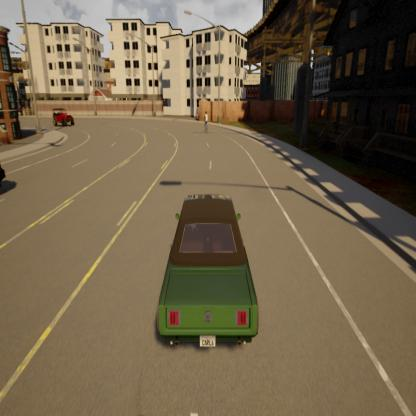Cars: (150, 185, 263, 370), (47, 104, 77, 132), (0, 151, 13, 202)
